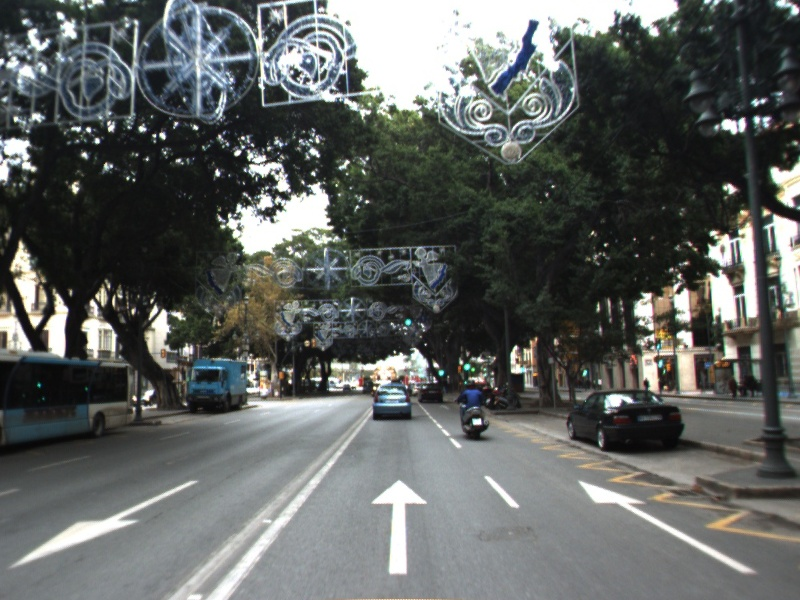STRAIGHT: (576, 477, 761, 577), (367, 475, 432, 577)
